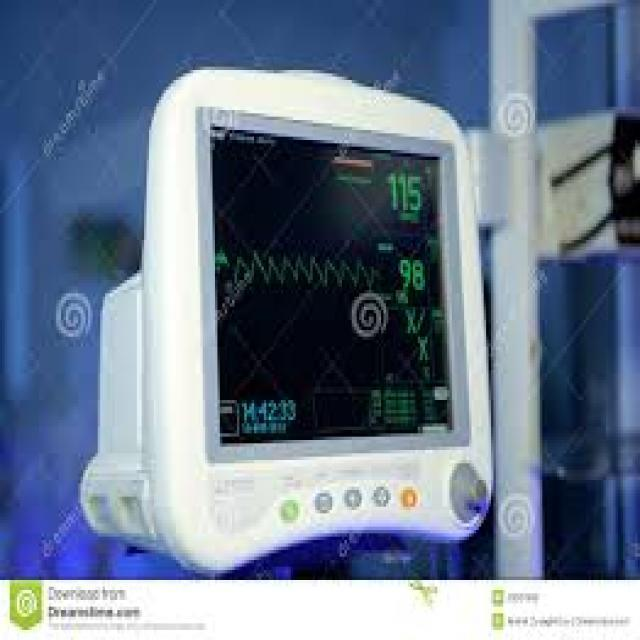cardiac_monitor: (136, 64, 509, 546)
